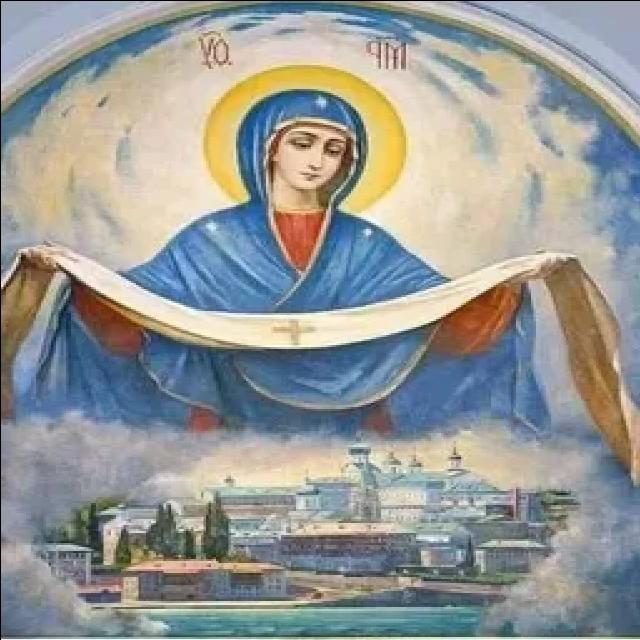mother of god: (0, 78, 631, 451)
